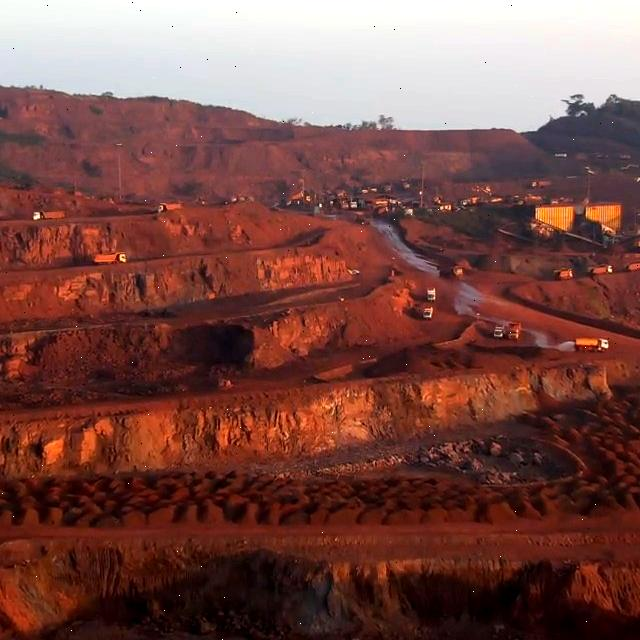Dumper truck: (93, 252, 127, 264), (33, 211, 64, 220), (156, 203, 180, 213)
car: (492, 323, 505, 338), (423, 305, 434, 320), (426, 287, 436, 301)
